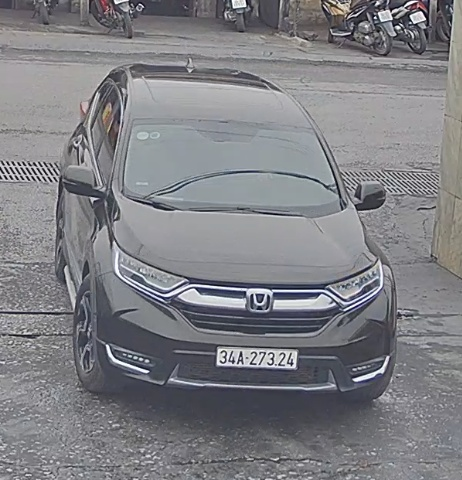vehicle plate: (207, 339, 298, 373)
